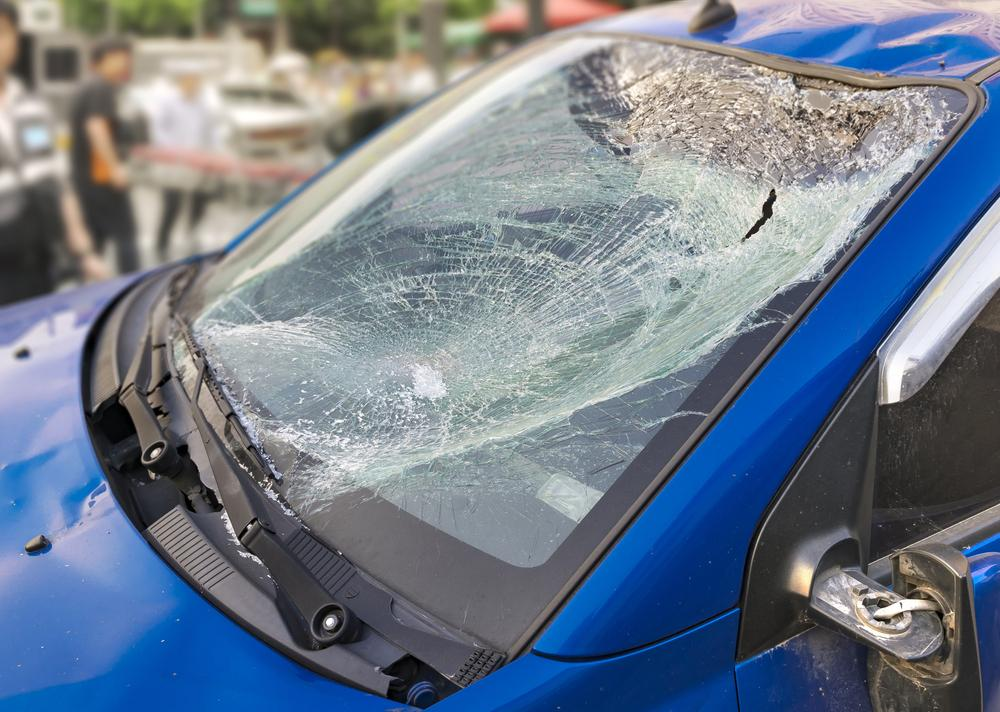dent: (0, 392, 176, 676), (728, 14, 992, 76)
glass shatter: (188, 34, 969, 652)
